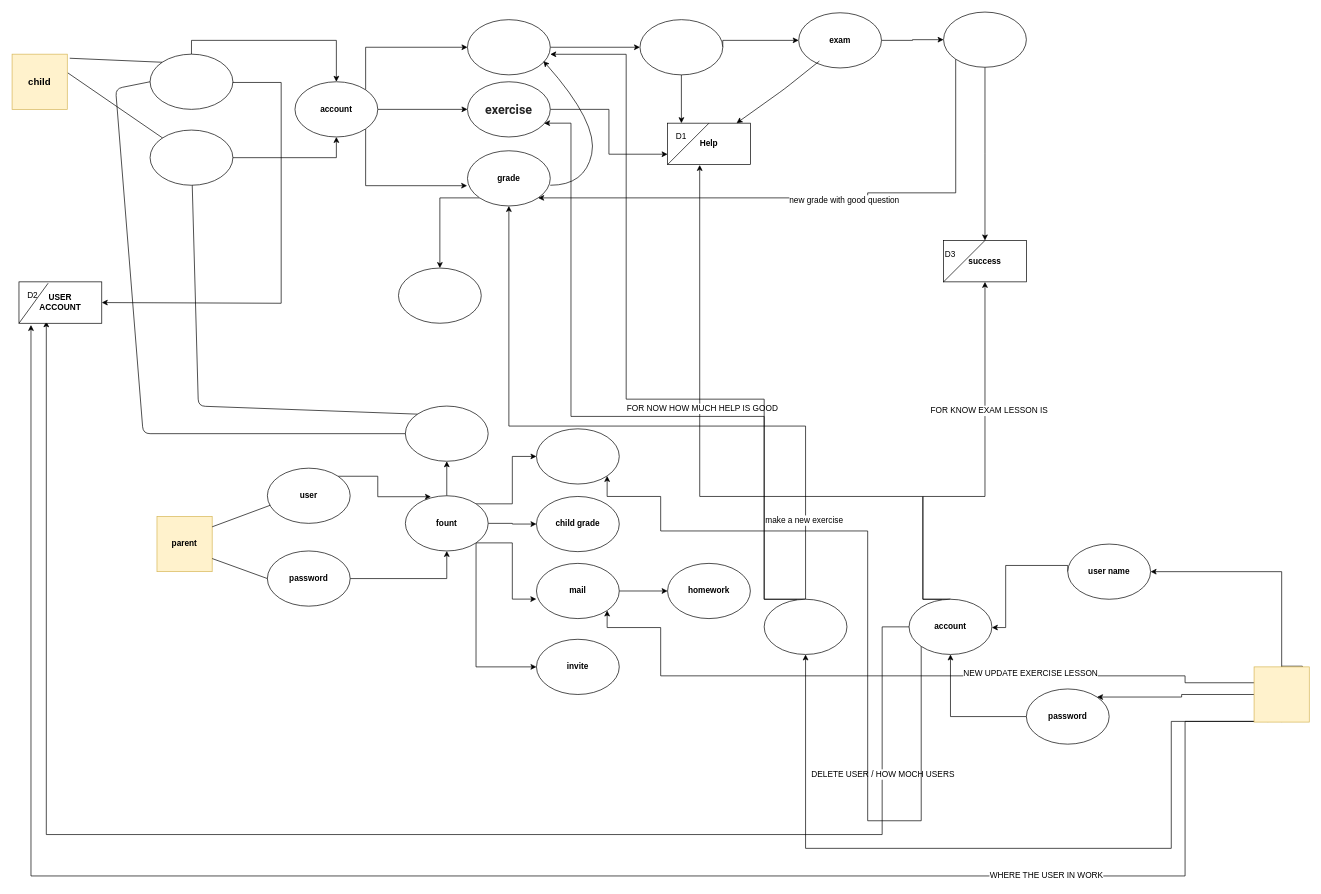
The diagram is 1321 pixels wide and 894 high, and some of its shapes have lost their labels. The centre of each missing label's shape, as x and y in pixels:
"ADMIN" goes at point (1281, 694).
"classment" goes at point (439, 295).
"continue lesson" goes at point (508, 47).
"enter name and age" goes at point (191, 81).
"enter password" goes at point (191, 157).
"learn lesson" goes at point (681, 47).
"new child" goes at point (446, 433).
"Question" goes at point (984, 39).
"review" goes at point (577, 456).
"workers" goes at point (805, 626).
